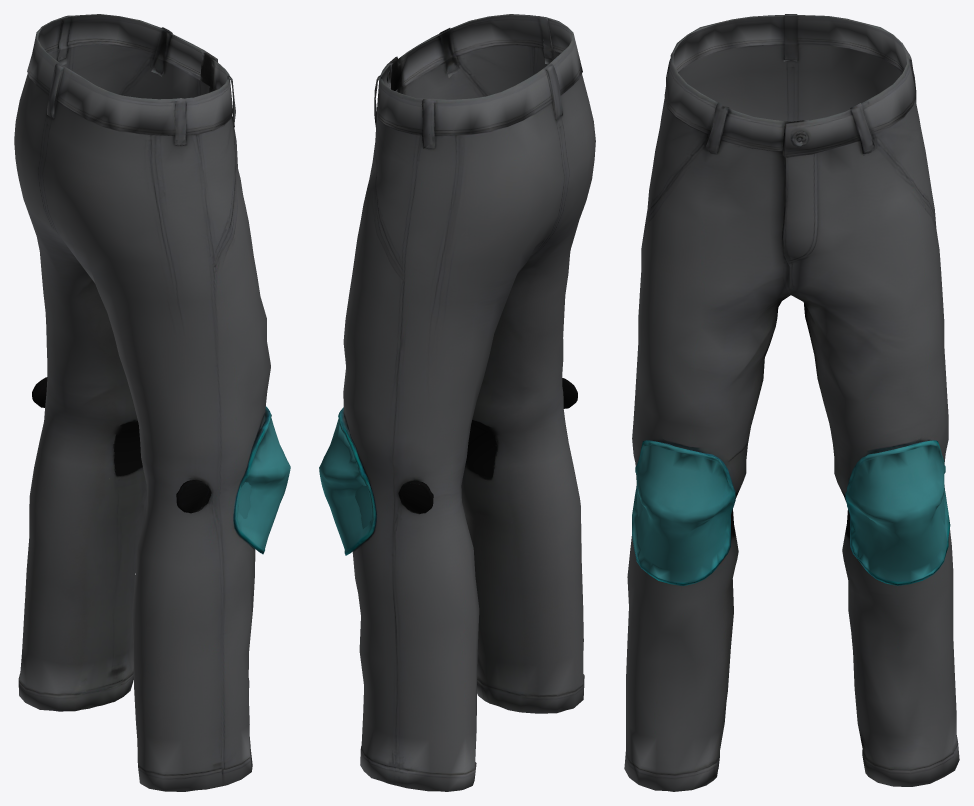
File: pants_charcoal.glb
The picture shows the model from 3 angles, left to right: view 1: azimuth 30°, elevation 25°; view 2: azimuth 150°, elevation 25°; view 3: azimuth 270°, elevation 25°; orthographic projection. The views are drawn at different scales.
Visible parts, largest first — view 1: tripo_node_154da6de-ba3c-4d8c-b320-66241f7026f6; view 2: tripo_node_154da6de-ba3c-4d8c-b320-66241f7026f6; view 3: tripo_node_154da6de-ba3c-4d8c-b320-66241f7026f6.
Boxes of the visible parts, bbox=[...] form: tripo_node_154da6de-ba3c-4d8c-b320-66241f7026f6: bbox=[14, 14, 290, 791]; tripo_node_154da6de-ba3c-4d8c-b320-66241f7026f6: bbox=[319, 14, 595, 791]; tripo_node_154da6de-ba3c-4d8c-b320-66241f7026f6: bbox=[624, 14, 959, 791].
Bounding box in the file's own units: 0.291 × 0.998 × 0.4238.
Materials: 1 (1 with a texture image).
